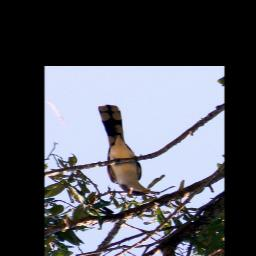Cuckoo: (95, 103, 160, 197)
